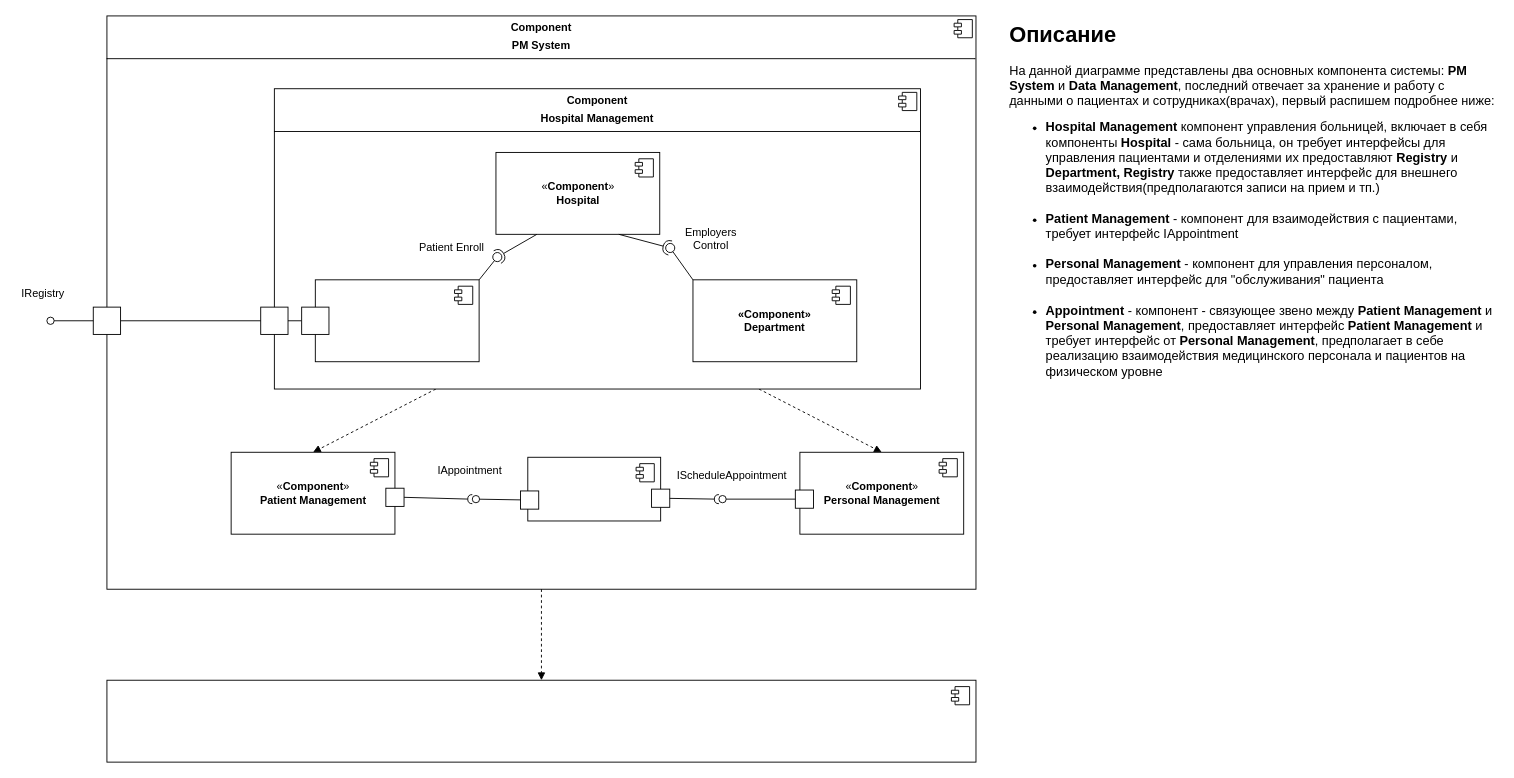
The diagram is 1514 pixels wide and 778 high, and some of its shapes have lost their labels. The shapes that lost their labels are listed below. From the top down, each one's box as (x1, y1, x2, y2) in pixels, then its label:
(314, 279, 479, 362): «Component» Registry
(527, 456, 661, 521): « Component » Appointment
(106, 679, 976, 762): « Component » Data Management
